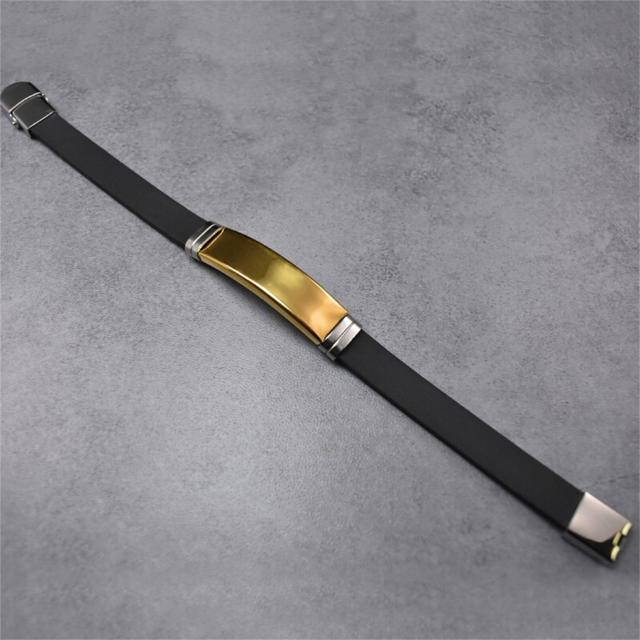bracelet: (0, 50, 640, 620)
